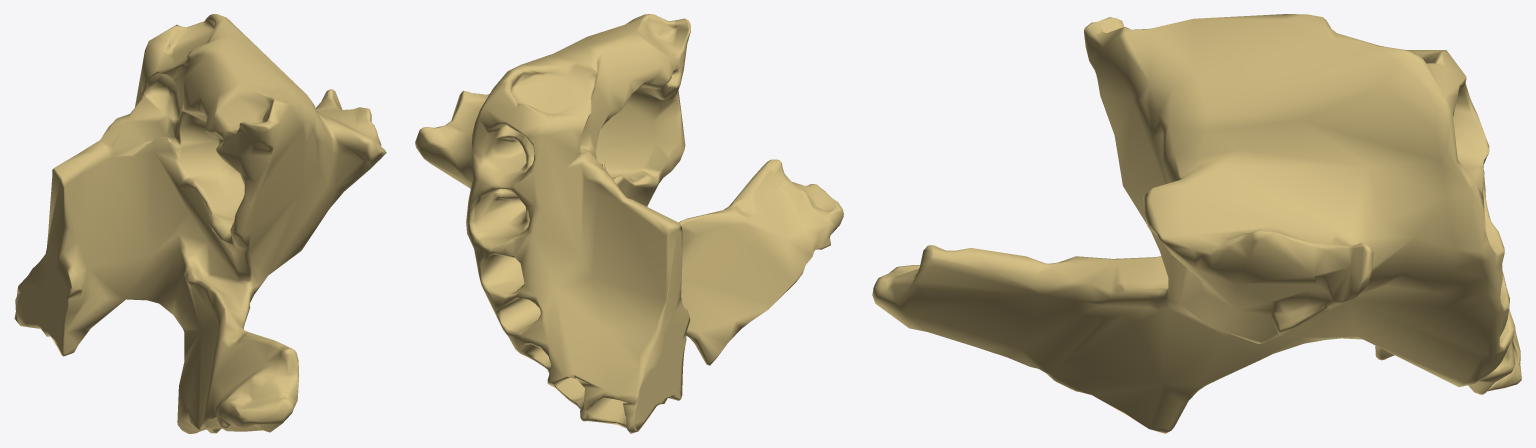
The picture shows the model from 3 angles, left to right: view 1: azimuth 30°, elevation 25°; view 2: azimuth 150°, elevation 25°; view 3: azimuth 270°, elevation 25°; orthographic projection. The views are drawn at different scales.
Visible parts, largest first — view 1: 左侧上颌骨; view 2: 左侧上颌骨; view 3: 左侧上颌骨.
Boxes of the visible parts, <box> form: 左侧上颌骨: <box>14,14,386,433</box>; 左侧上颌骨: <box>415,14,843,433</box>; 左侧上颌骨: <box>872,14,1521,433</box>.
Size of the model in its own units: 0.0681 by 0.0793 by 0.0999.
